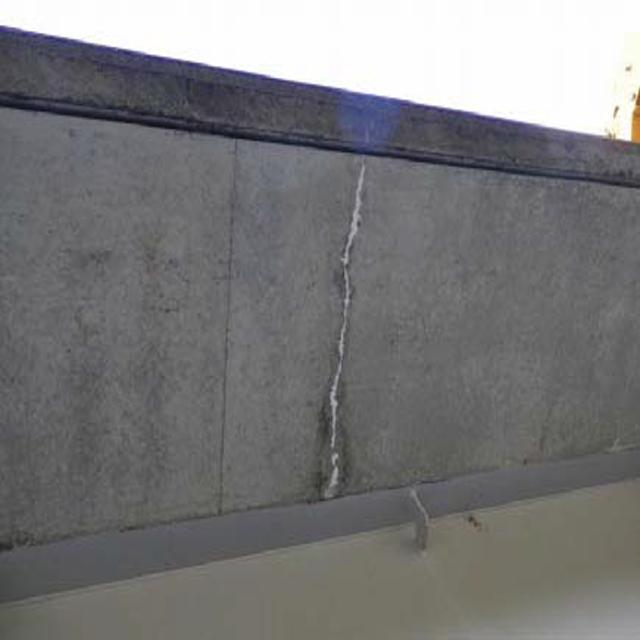freelime: (317, 160, 386, 503)
